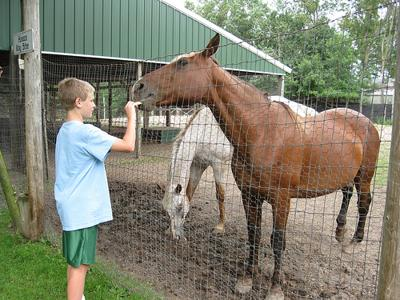person: (53, 76, 142, 300)
